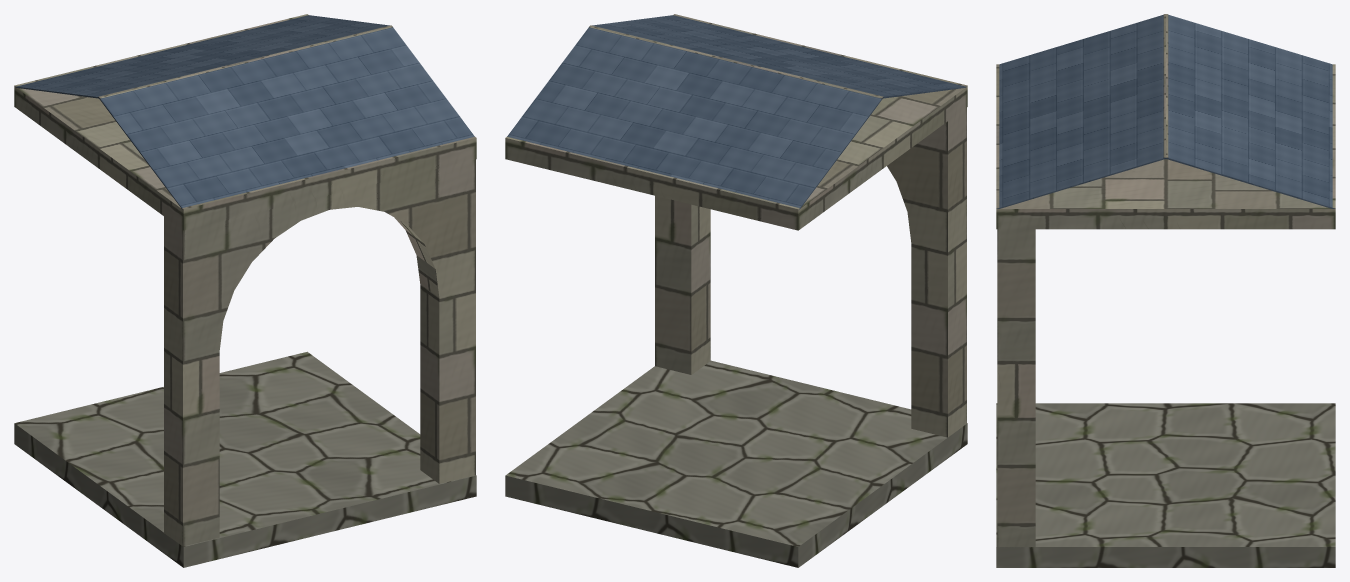
Rendered from Furn_Arcade.fbx.
3 views of the same model, side by side, from view 1: azimuth 30°, elevation 25°; view 2: azimuth 150°, elevation 25°; view 3: azimuth 270°, elevation 25° (orthographic).
Visible parts, largest first — view 1: Furn_Arcade_Mesh; view 2: Furn_Arcade_Mesh; view 3: Furn_Arcade_Mesh.
Part boxes in pixels (bbox=[...]): Furn_Arcade_Mesh: bbox=[14, 14, 476, 567]; Furn_Arcade_Mesh: bbox=[505, 14, 967, 567]; Furn_Arcade_Mesh: bbox=[996, 14, 1335, 567].
Size of the model in its own units: 3 by 4 by 3.
